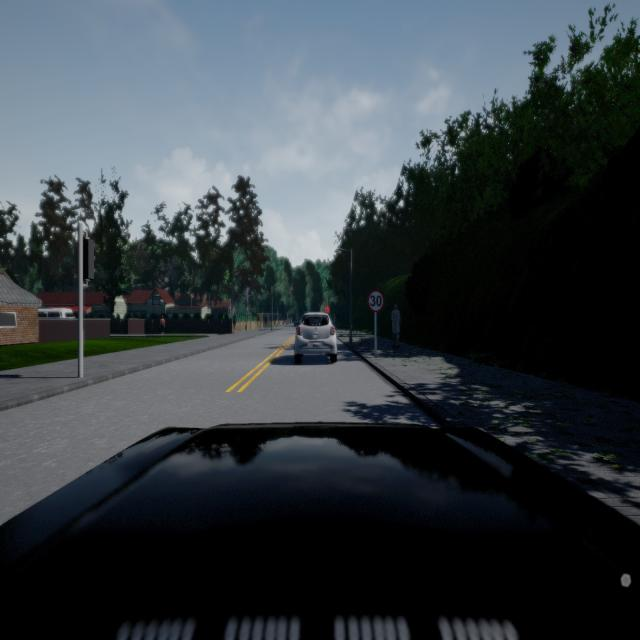Speed Limit -30-: (367, 289, 384, 313)
